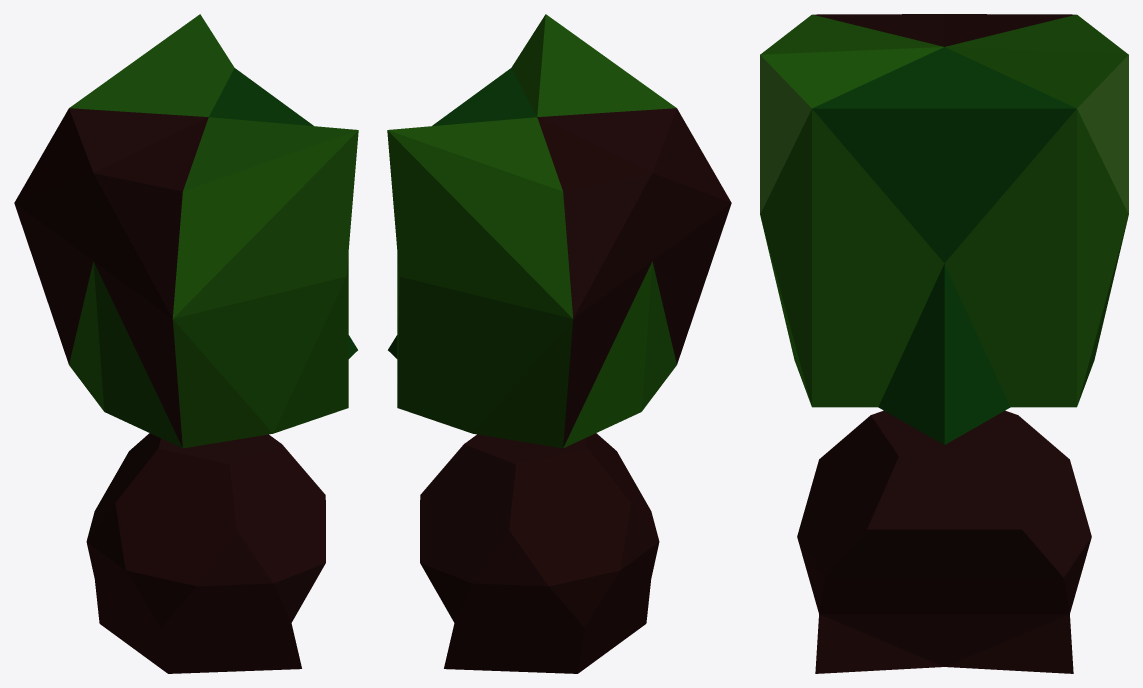
File: goblin.glb
3 views of the same model, side by side, from view 1: azimuth 30°, elevation 25°; view 2: azimuth 150°, elevation 25°; view 3: azimuth 270°, elevation 25° (orthographic). The views are drawn at different scales.
Visible parts, largest first — view 1: goblin; view 2: goblin; view 3: goblin.
Boxes of the visible parts, x1,y1,x2,y2 form: goblin: [14, 14, 358, 673]; goblin: [387, 14, 731, 673]; goblin: [760, 14, 1128, 673].
Size of the model in its own units: 1.81 by 3.59 by 1.88.
Materials: 1 (1 with a texture image).
